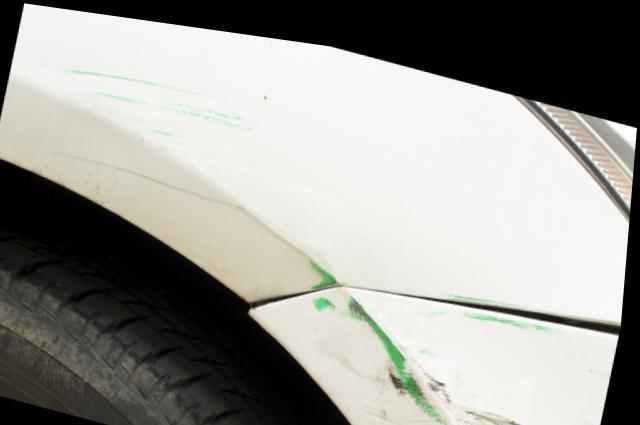scratch: (305, 274, 618, 425), (56, 63, 263, 143)
